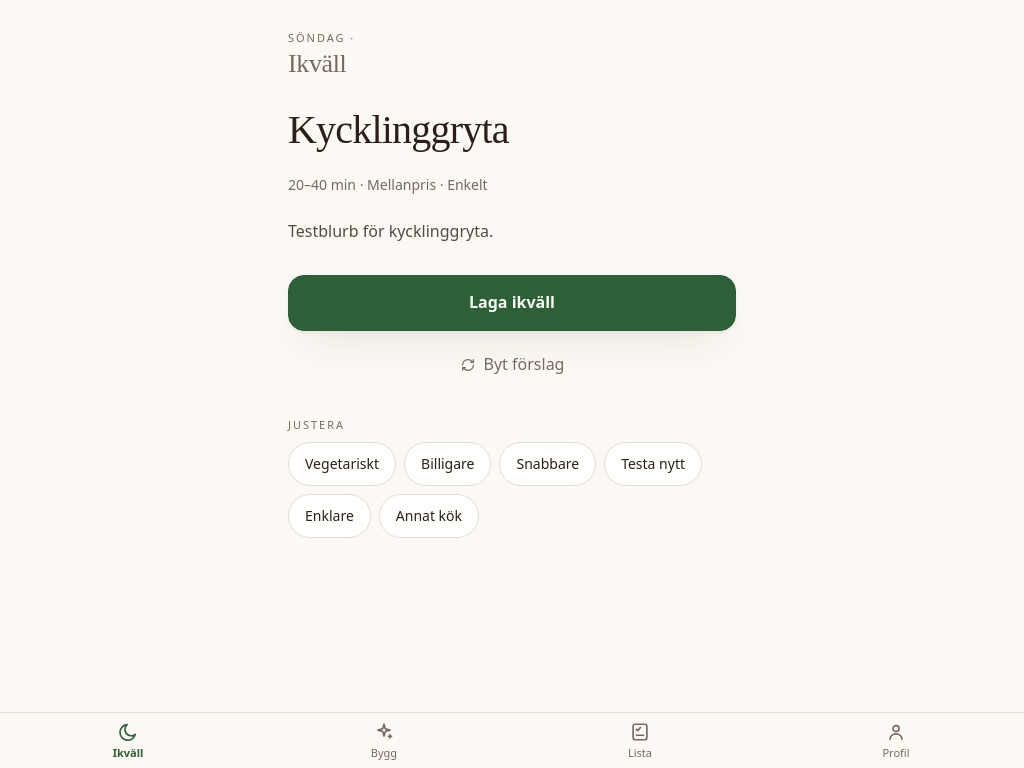
Test: App — adjustment chips › sends everything shown so far as exclude and the current dish as previous, and renders the new dish
The width and height of the screenshot is (1024, 768).
Expected: the heading "Kycklinggryta" is shown, [288,107,509,152]
Click the button "Byt förslag": (512, 365) [288,343,736,387]
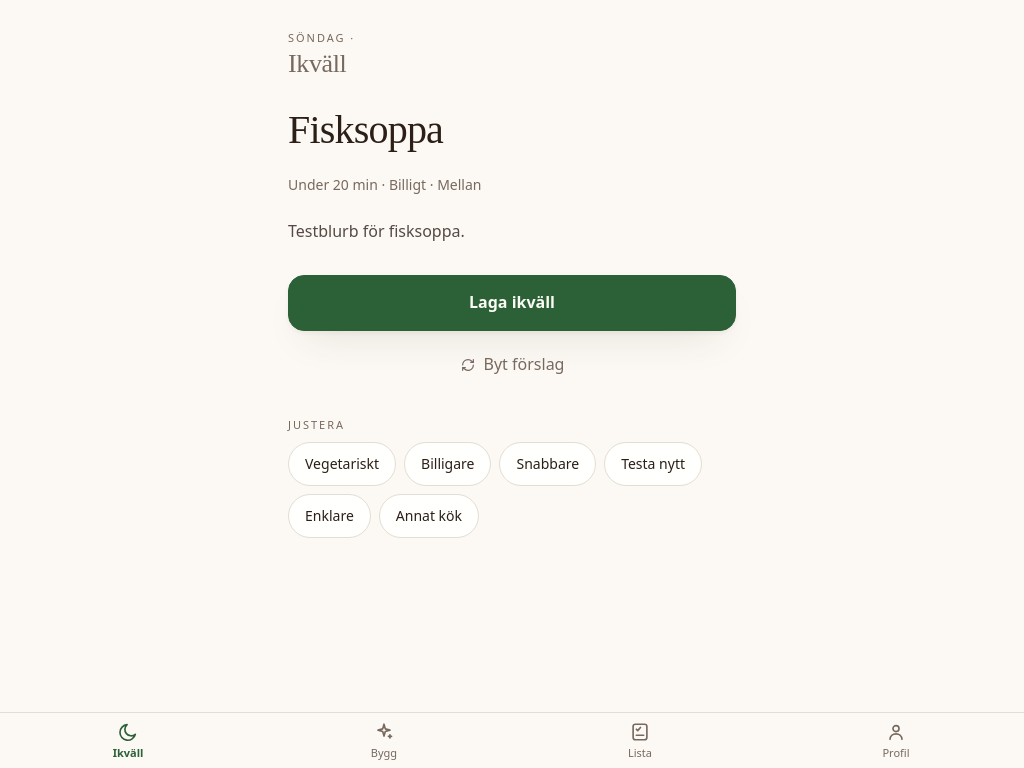
Result: the heading "Fisksoppa" is shown at [288,107,443,152]
